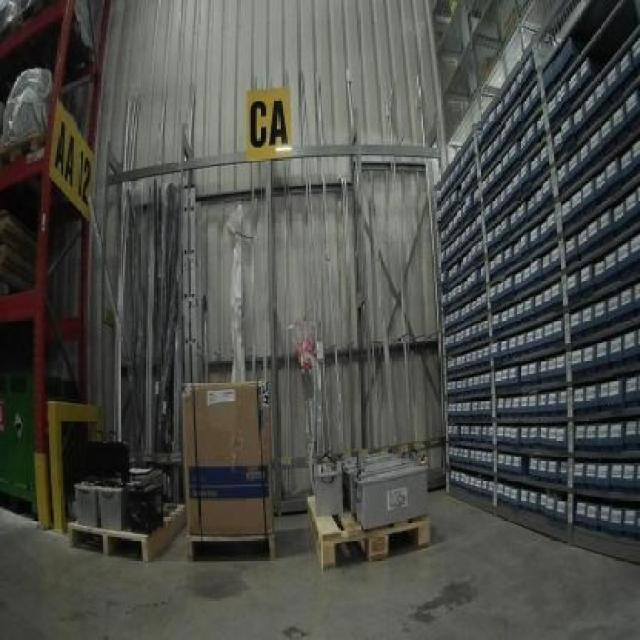pallets: (432, 0, 637, 558), (182, 380, 271, 554), (342, 451, 425, 526)
